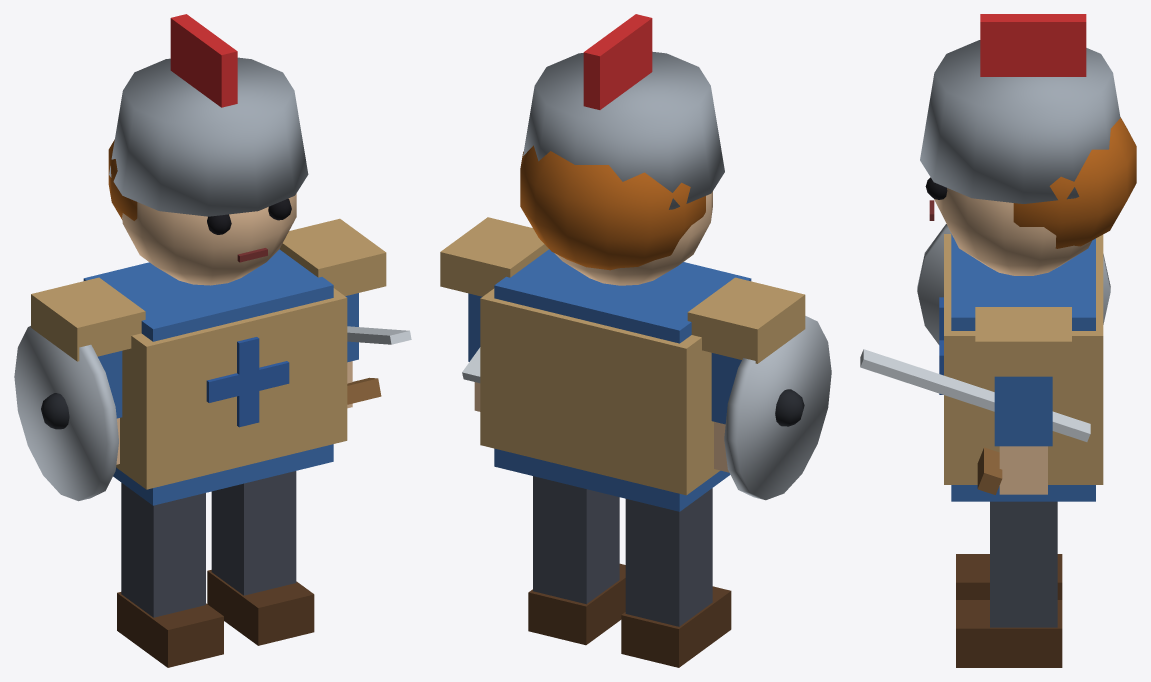
The model's file is kid_tomas.glb.
3 views of the same model, side by side, from view 1: azimuth 30°, elevation 25°; view 2: azimuth 150°, elevation 25°; view 3: azimuth 270°, elevation 25° (orthographic). The views are drawn at different scales.
Parts seen in each view (by area): view 1: armor, bucket, torso, shield, leg, leg.001, skull, pauldron, pauldron.001, shoe, shoe.001, plume (+8 smaller); view 2: armor, bucket, torso, hair, shield, leg, leg.001, pauldron, pauldron.001, shoe, plume, shoe.001 (+5 smaller); view 3: bucket, armor, torso, leg.001, hair, pauldron.001, skull, plume, shoe.001, sleeve.001, blade, shield (+3 smaller).
Boxes of the visible parts, x1,y1,x2,y2 form: armor: [116, 288, 347, 489]; bucket: [109, 57, 308, 216]; torso: [83, 249, 333, 505]; shield: [14, 326, 118, 501]; leg: [121, 483, 205, 617]; leg.001: [211, 471, 296, 595]; skull: [122, 193, 296, 285]; pauldron: [31, 277, 145, 361]; pauldron.001: [279, 218, 386, 296]; shoe: [117, 592, 223, 667]; shoe.001: [207, 570, 314, 645]; plume: [170, 14, 237, 107]; armor: [480, 288, 720, 495]; bucket: [523, 51, 724, 209]; torso: [494, 249, 751, 511]; hair: [520, 145, 705, 270]; shield: [724, 316, 831, 500]; leg: [625, 488, 712, 626]; leg.001: [533, 476, 619, 604]; pauldron: [687, 277, 805, 363]; pauldron.001: [440, 217, 548, 296]; shoe: [621, 586, 731, 667]; plume: [583, 14, 652, 109]; shoe.001: [528, 563, 625, 645]; bucket: [920, 40, 1120, 203]; armor: [944, 234, 1103, 484]; torso: [951, 234, 1095, 501]; leg.001: [990, 501, 1057, 627]; hair: [1013, 117, 1136, 248]; pauldron.001: [975, 307, 1071, 376]; skull: [934, 188, 1092, 275]; plume: [980, 14, 1086, 76]; shoe.001: [956, 600, 1062, 667]; sleeve.001: [994, 376, 1052, 446]; blade: [860, 349, 1090, 441]; shield: [917, 224, 1110, 344].
Size of the model in its own units: 0.81 by 1.4 by 0.5722.
